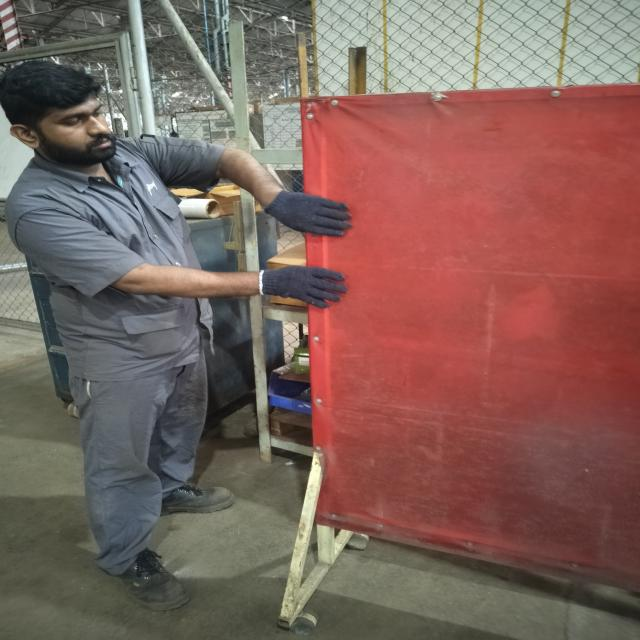Gloves-Detection: (250, 258, 349, 320), (262, 187, 350, 240)
